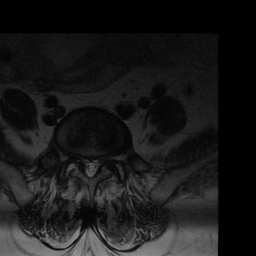CCS_normal: (87, 152, 94, 183)
LFS_stenosis: (101, 147, 108, 173)
LLS_stenosis: (94, 152, 101, 175)
RFS_stenosis: (74, 148, 81, 172)
RLS_stenosis: (81, 151, 88, 176)
